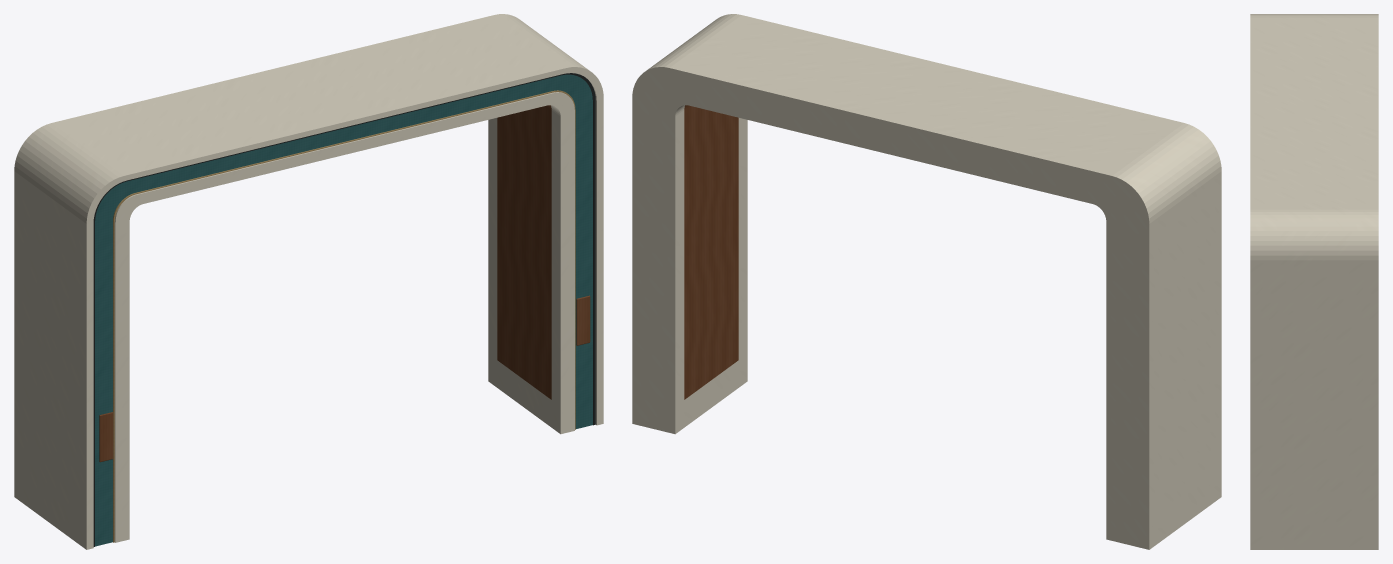
Rendered from AST-SAL-001.glb.
3 views of the same model, side by side, from view 1: azimuth 30°, elevation 25°; view 2: azimuth 150°, elevation 25°; view 3: azimuth 270°, elevation 25° (orthographic). The views are drawn at different scales.
Visible parts, largest first — view 1: AST-SAL-001__ivory_enamel, AST-SAL-001__teal_weave, AST-SAL-001__warm_walnut, AST-SAL-001__dark_rubber, AST-SAL-001__champagne_metal; view 2: AST-SAL-001__ivory_enamel, AST-SAL-001__warm_walnut; view 3: AST-SAL-001__ivory_enamel.
Boxes of the visible parts, <box> form: AST-SAL-001__ivory_enamel: <box>14,14,603,549</box>; AST-SAL-001__teal_weave: <box>95,74,592,546</box>; AST-SAL-001__warm_walnut: <box>99,105,590,462</box>; AST-SAL-001__dark_rubber: <box>93,73,595,546</box>; AST-SAL-001__champagne_metal: <box>113,90,575,542</box>; AST-SAL-001__ivory_enamel: <box>632,14,1221,549</box>; AST-SAL-001__warm_walnut: <box>684,105,738,399</box>; AST-SAL-001__ivory_enamel: <box>1250,14,1378,549</box>.
Bounding box in the file's own units: 5.28 × 3.56 × 1.28.
Materials: 5 (5 with a texture image).
